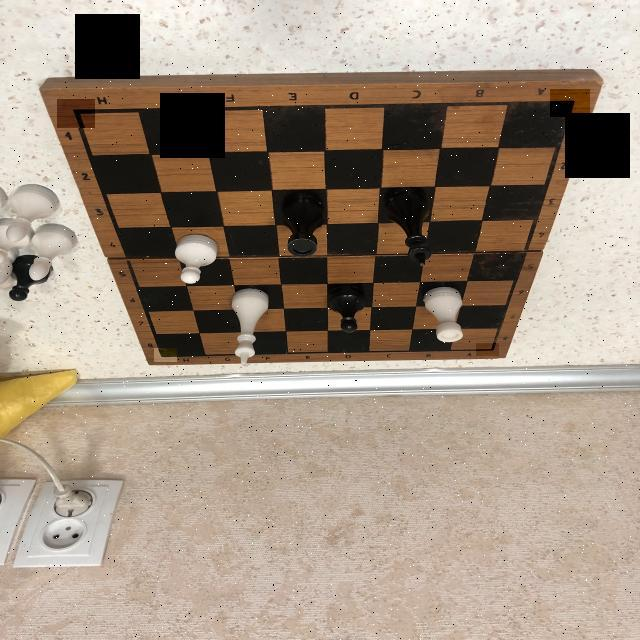chess-table-corners: (550, 89, 590, 117), (56, 99, 94, 128), (154, 348, 177, 362), (476, 343, 499, 356)
